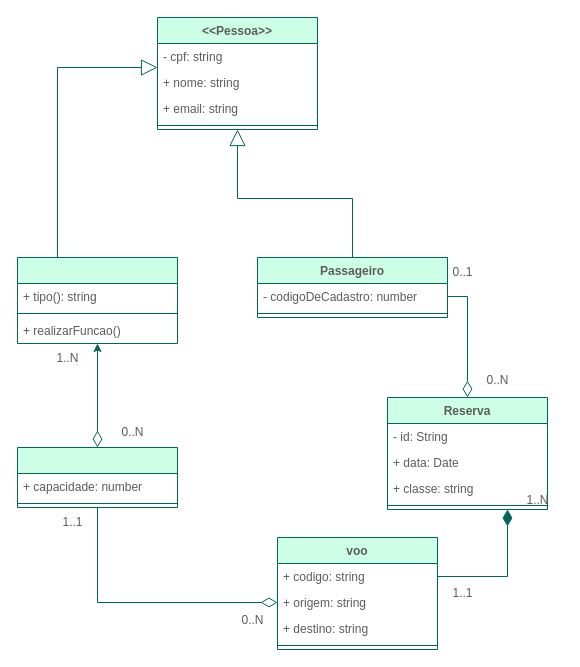
Image size: 580x667. Some labels were removed from this diagram. Each missing label, with the box of its shape:
Aeronave: (16, 446, 178, 508)
Tripulante: (16, 256, 178, 344)
